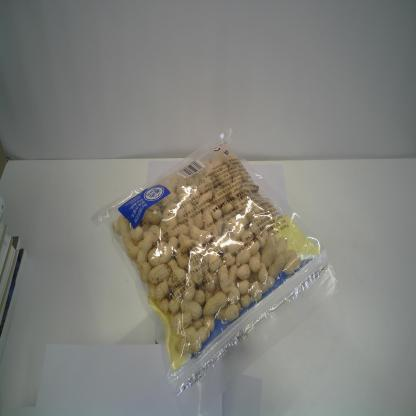Dried Food: (90, 124, 342, 400)
